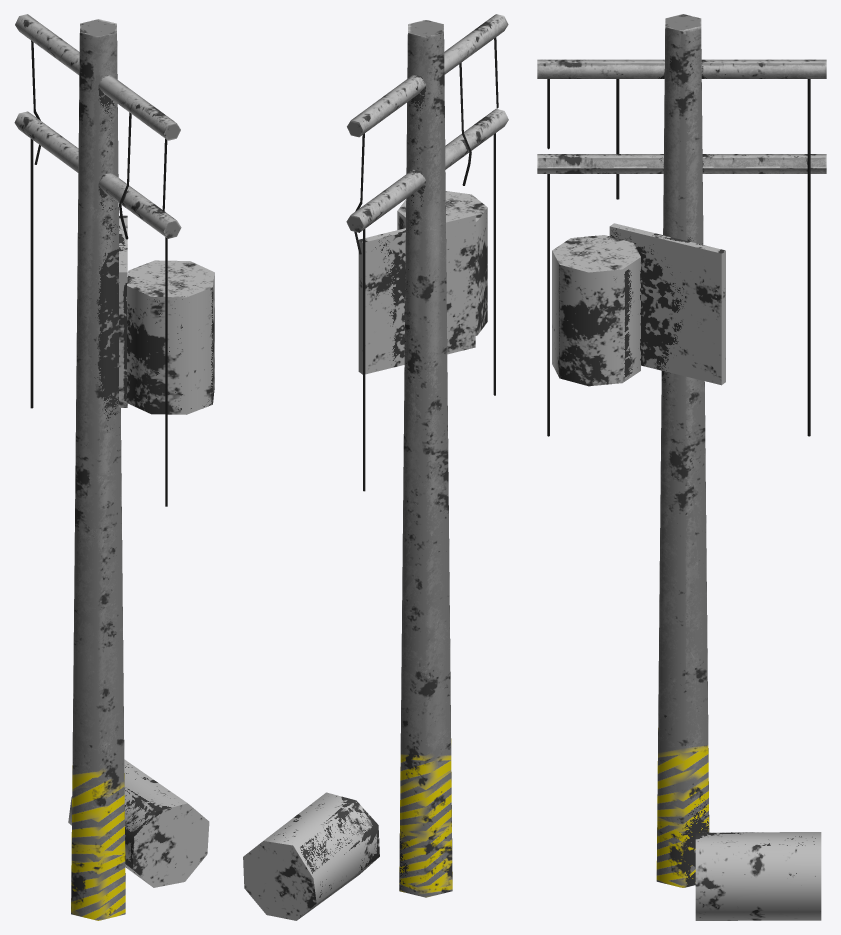
3 renders of one model, left to right at view 1: azimuth 30°, elevation 25°; view 2: azimuth 150°, elevation 25°; view 3: azimuth 270°, elevation 25°, orthographic. The views are drawn at different scales.
Parts seen in each view (by area): view 1: Upole; view 2: Upole; view 3: Upole.
Part boxes in pixels (x1=…): Upole: x1=14, y1=14, x2=214, y2=920; Upole: x1=243, y1=14, x2=508, y2=920; Upole: x1=537, y1=14, x2=826, y2=920.
Size of the model in its own units: 74.7 by 434 by 133.
Materials: 1 (1 with a texture image).
